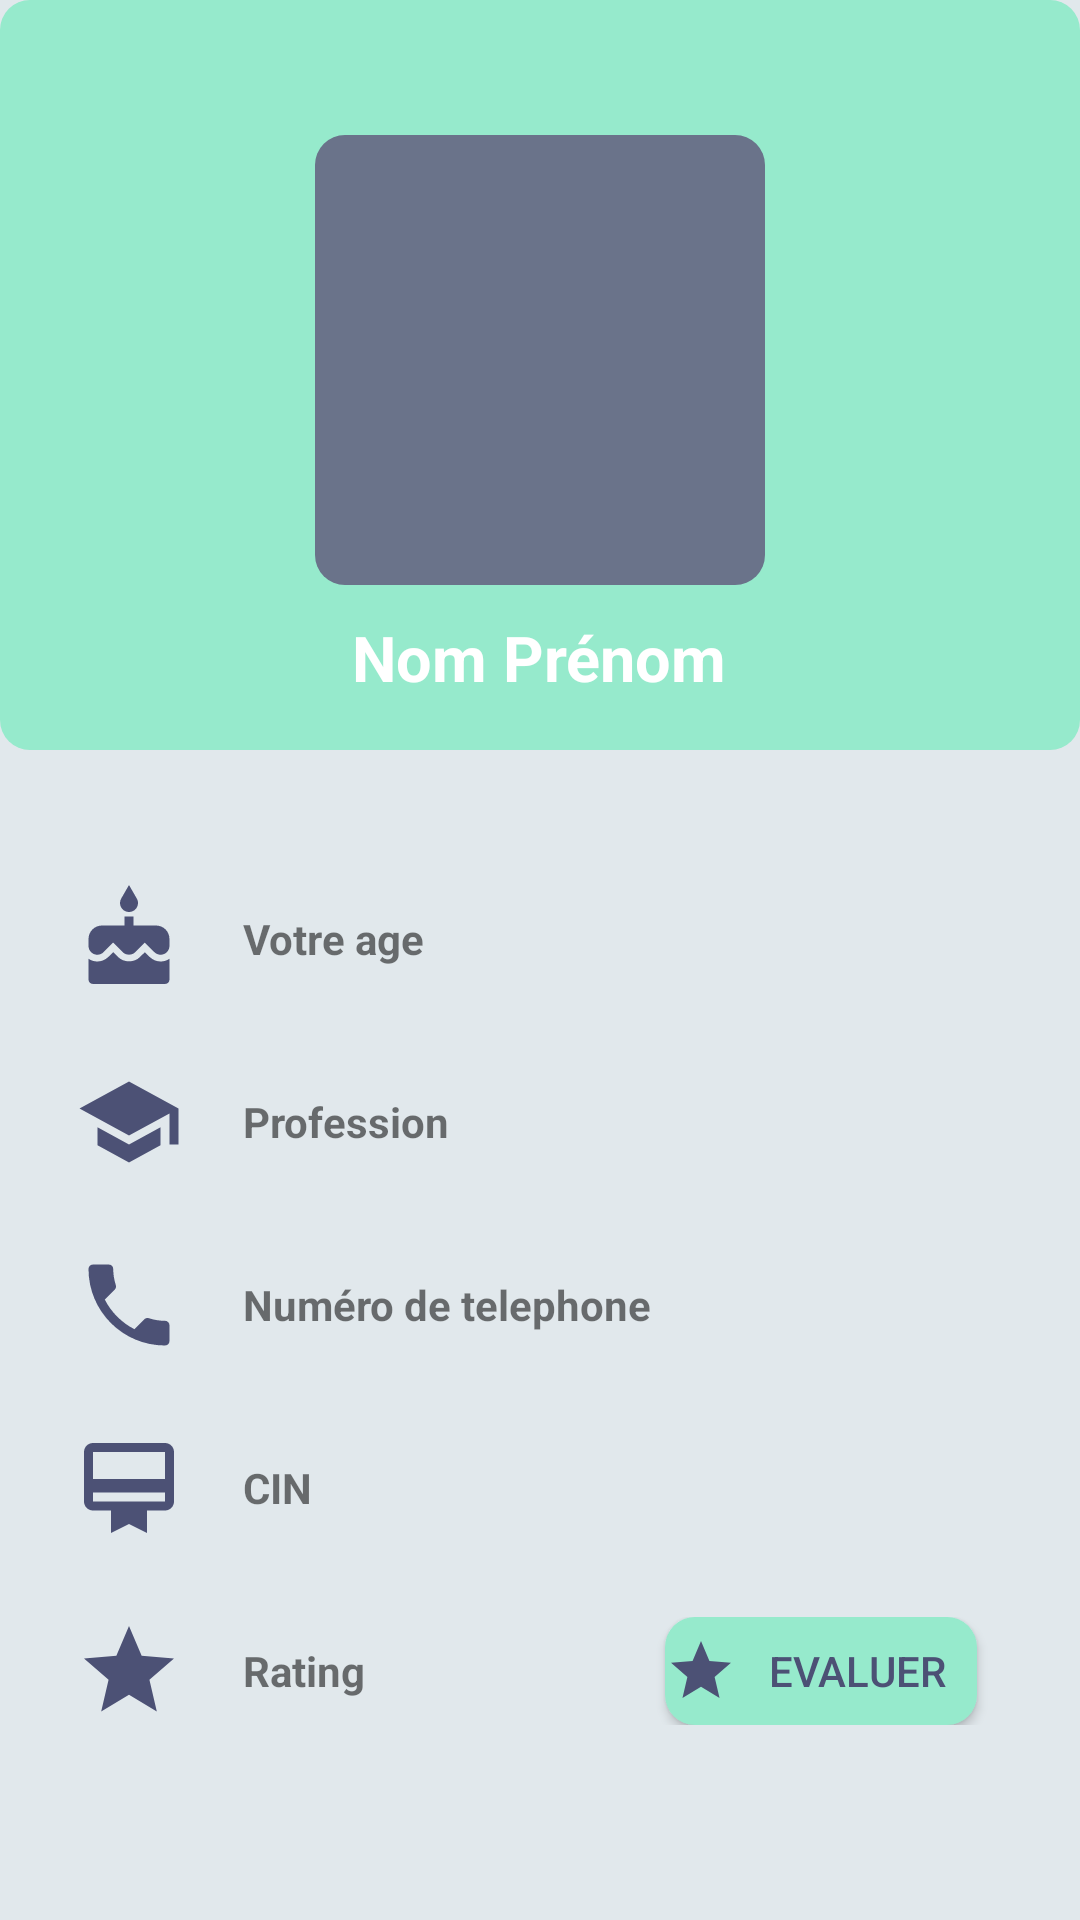

Named icons in this screenshot (1080 x 1920) and their bounding boxes, (x1, y1, x2, y2):
cake: (88, 885, 170, 984)
card membership: (84, 1443, 174, 1533)
local phone: (88, 1264, 170, 1346)
school: (80, 1081, 179, 1163)
star: (84, 1626, 174, 1712)
